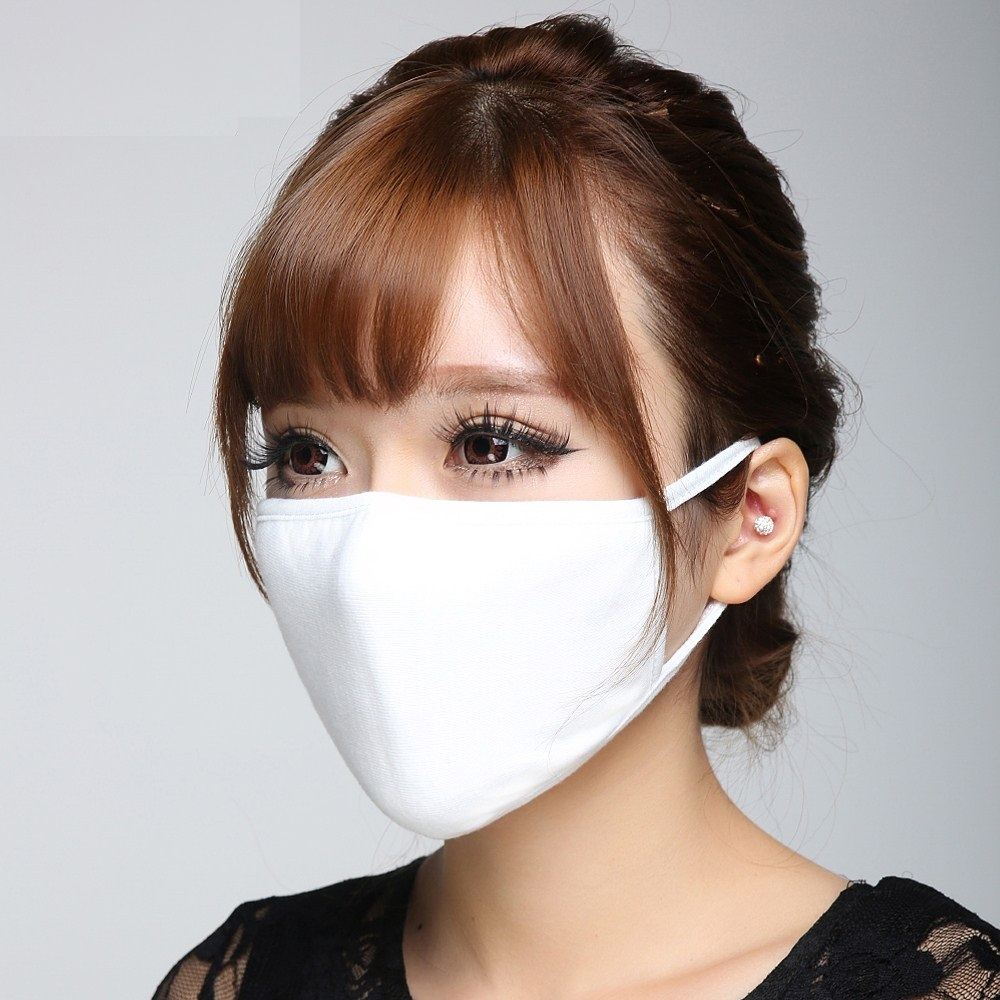face_mask: (254, 208, 674, 801)
